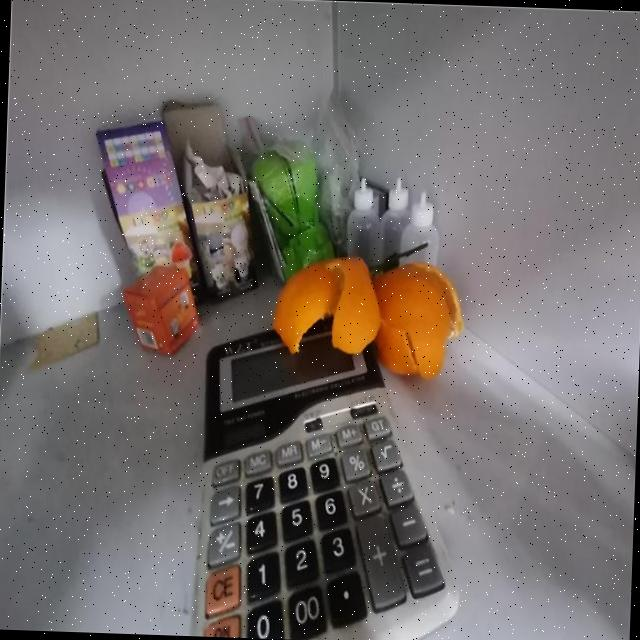orange-peel: (268, 249, 466, 381)
